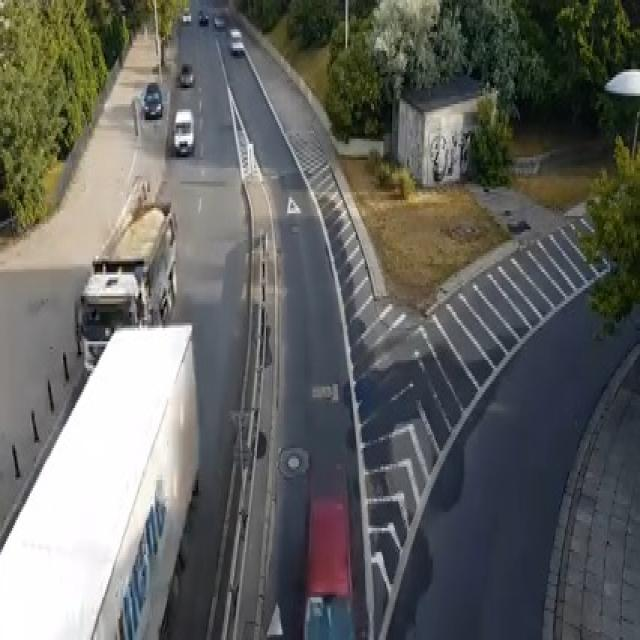bus: (0, 320, 200, 637)
car: (173, 106, 194, 154), (141, 80, 162, 117), (225, 27, 245, 53), (179, 61, 194, 85), (213, 10, 226, 27), (182, 5, 191, 24), (198, 8, 208, 24)
truck: (74, 176, 177, 376)
